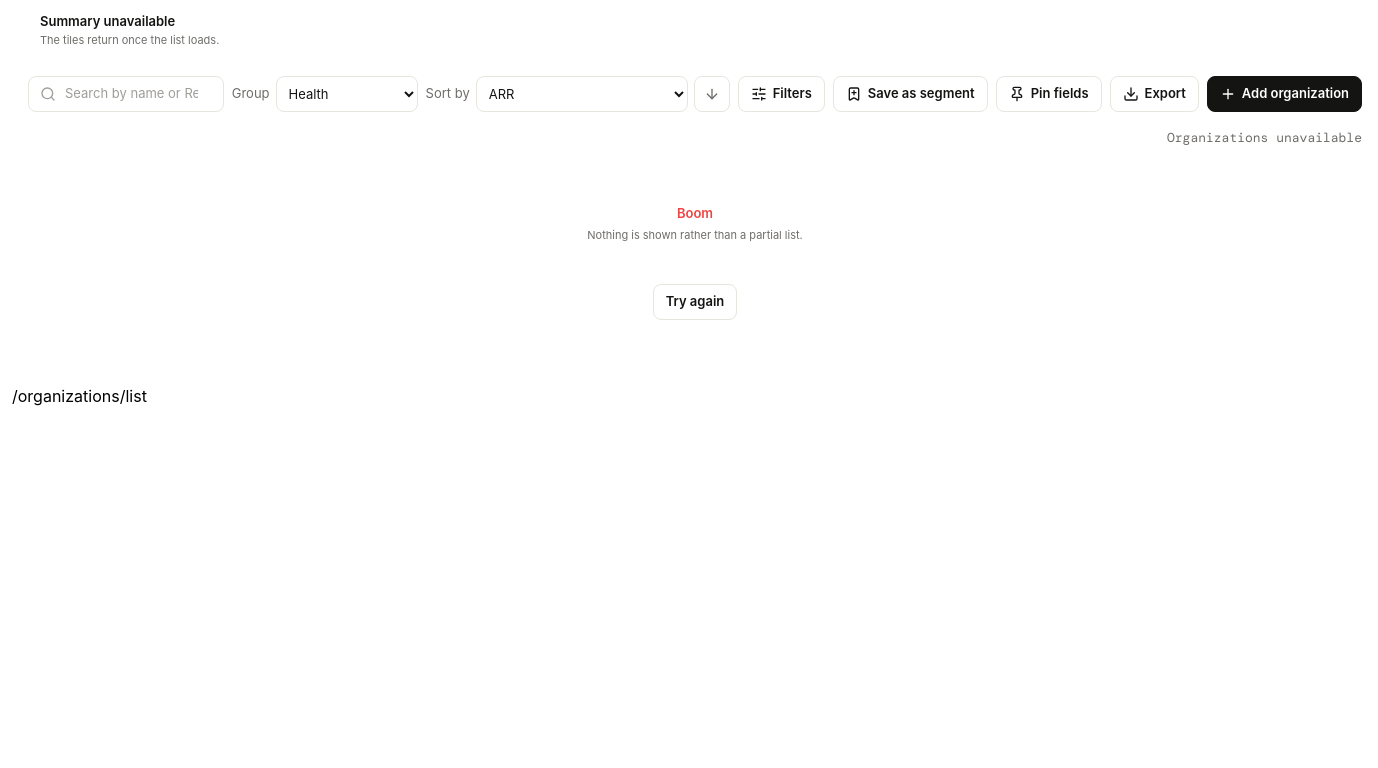
it: Organizations list (portfolio) › shows an error and recovers on Try again
Expected: the text "Boom" is shown, x1=677 y1=204 x2=713 y2=220
Expected: the text "Boom Nothing is shown rather than a partial list." is shown, x1=587 y1=204 x2=803 y2=242
Click the button "Try again": (695, 302) x1=653 y1=284 x2=737 y2=320
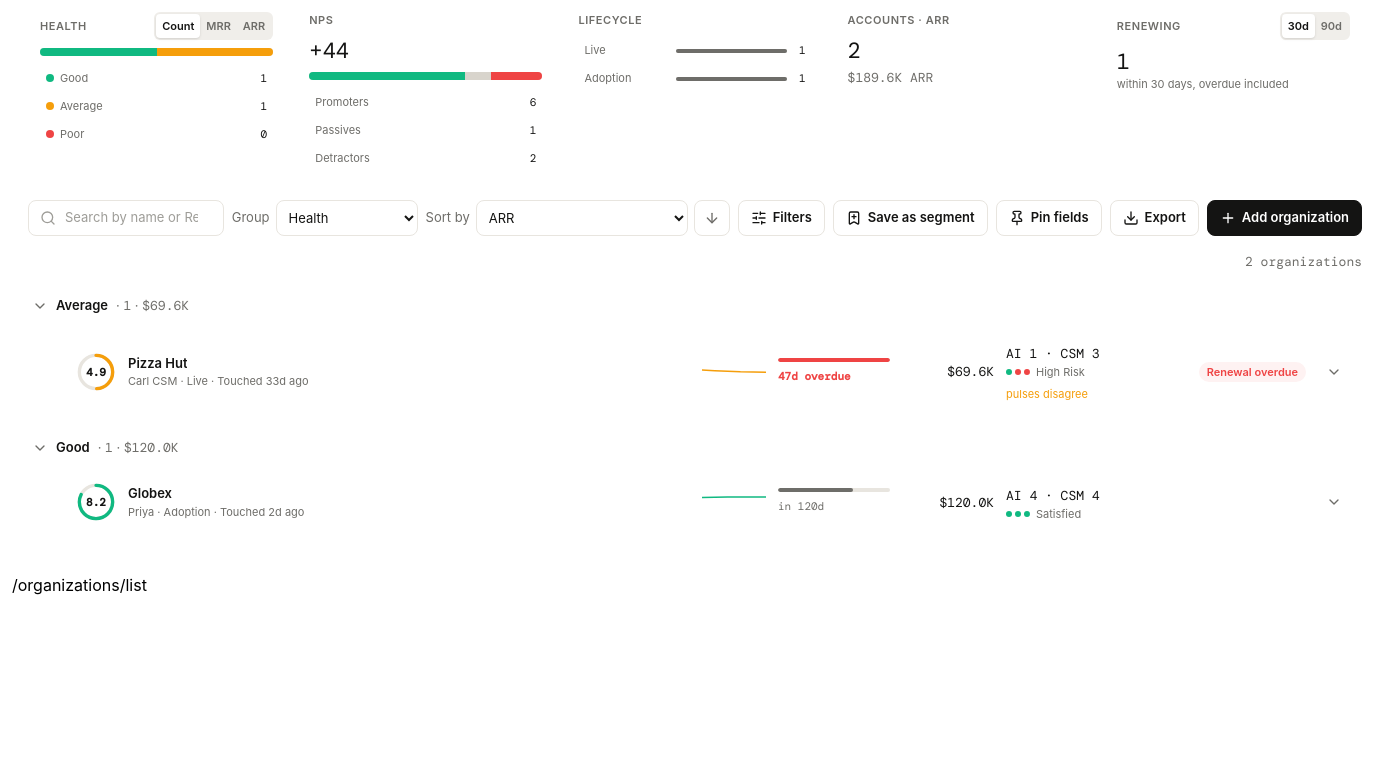
Now the link "Pizza Hut" is shown, box x1=128 y1=354 x2=188 y2=373
